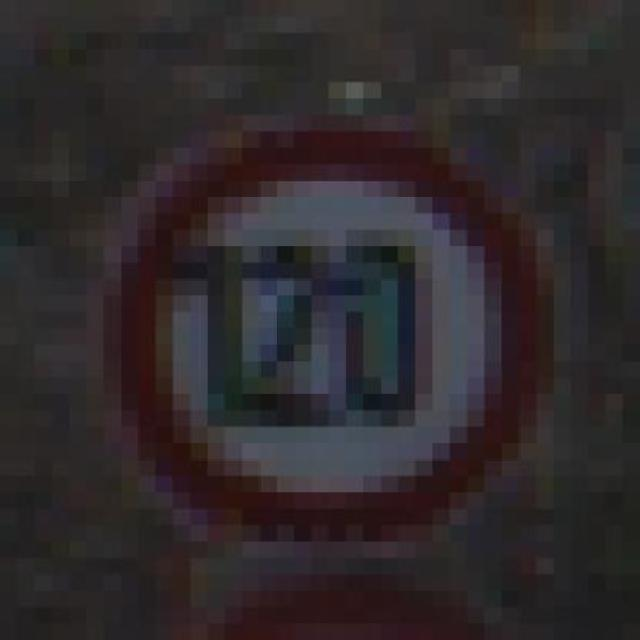forb_speed_over_120: (118, 135, 542, 536)
